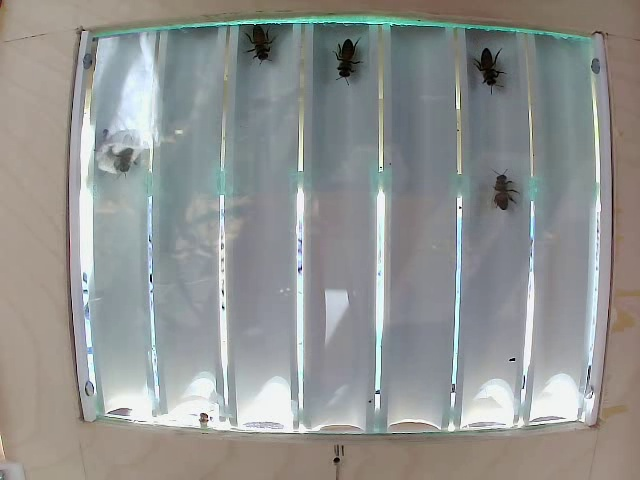bee: (337, 37, 376, 86), (233, 23, 273, 63), (483, 180, 524, 219), (467, 46, 506, 81), (100, 136, 133, 177)
